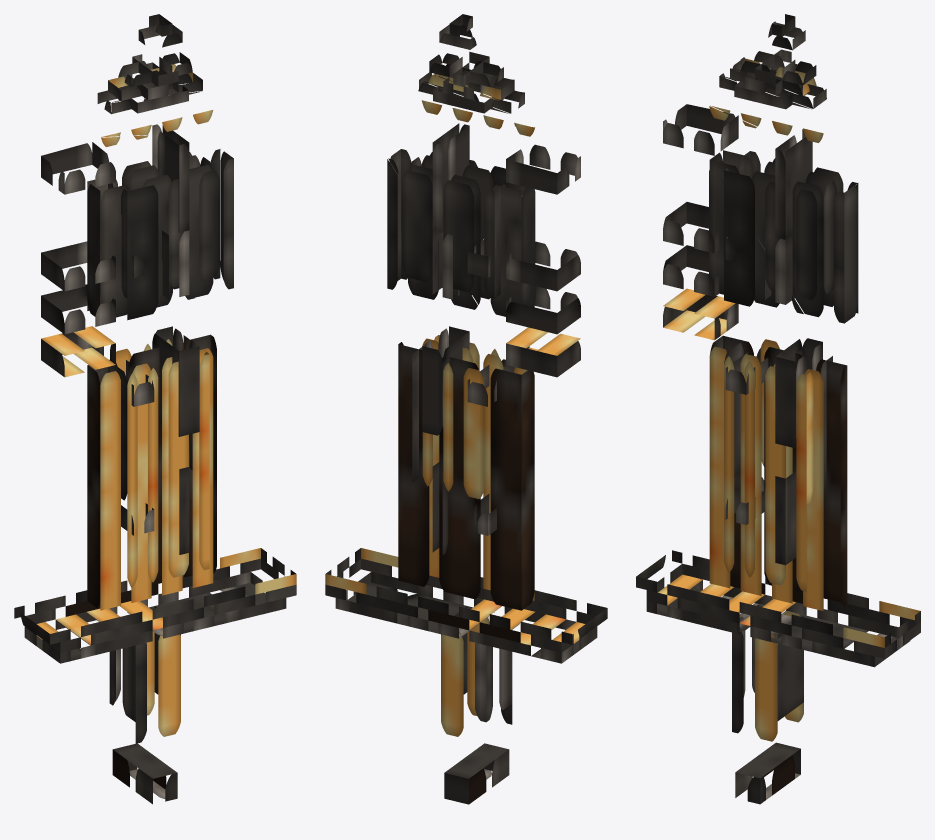
File: kiln_blade.obj
3 views of the same model, side by side, from view 1: azimuth 30°, elevation 25°; view 2: azimuth 150°, elevation 25°; view 3: azimuth 330°, elevation 25° (orthographic).
Parts seen in each view (by area): view 1: lit, fire; view 2: lit, fire; view 3: lit, fire.
Part boxes in pixels (x1,y1,x2,y2): lit: (14,14,296,743); fire: (112,124,199,804); lit: (325,14,607,736); fire: (422,123,509,804); lit: (636,14,920,741); fire: (735,129,822,804).
Size of the model in its own units: 0.75 by 2.27 by 0.2125.
